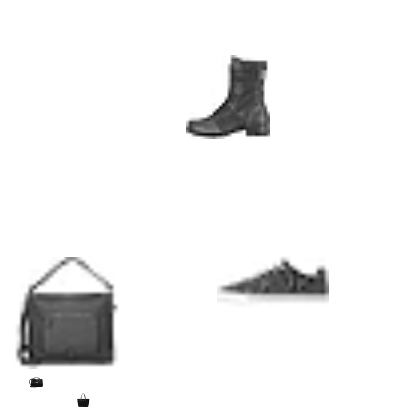Ankle_boot: (186, 55, 270, 139)
Bag: (9, 257, 121, 369), (29, 375, 43, 389), (76, 393, 90, 407)
Sneaker: (217, 226, 329, 338)
